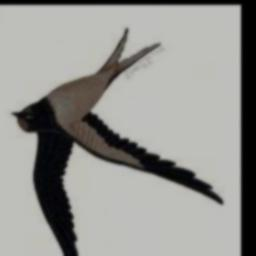Swallow: (10, 30, 224, 256)
